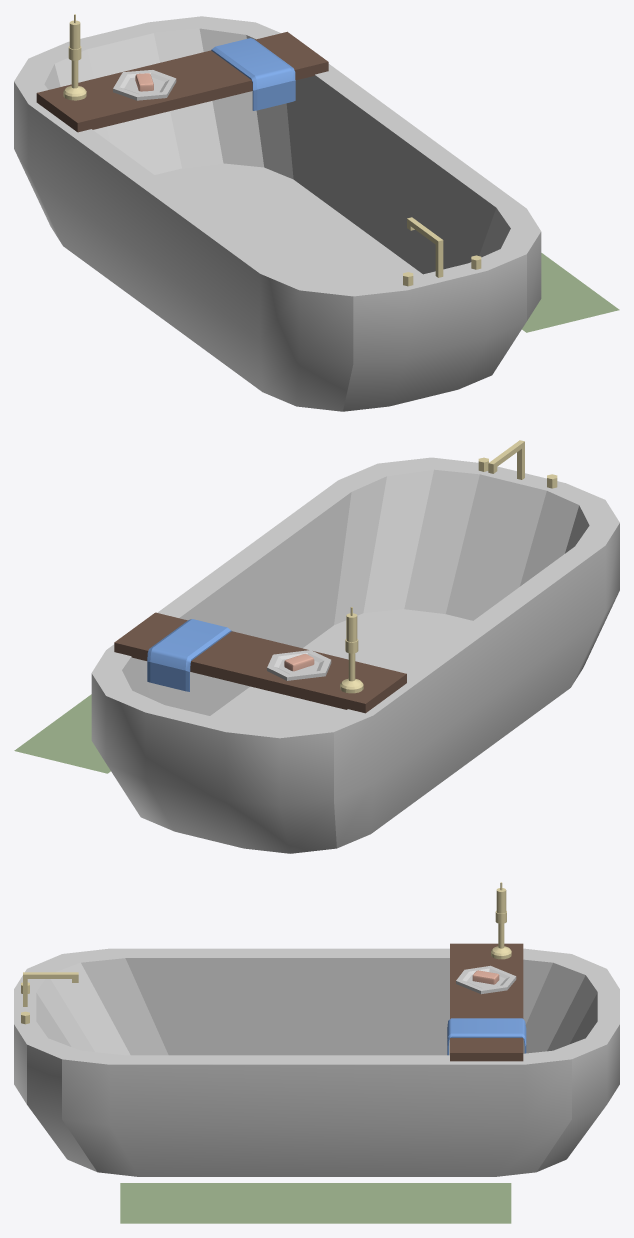
File: geo_bathTub_01.fbx
The picture shows the model from 3 angles, top to bottom: view 1: azimuth 30°, elevation 25°; view 2: azimuth 150°, elevation 25°; view 3: azimuth 270°, elevation 25°; orthographic projection. The views are drawn at different scales.
Parts seen in each view (by area): view 1: geo_bathtub_01, geo_bathtubWood_01, geo_FloorMat_01, geo_bathTowel_01, geo_soapDish_01, geo_candlebath_01, geo_BathTubTap_01; view 2: geo_bathtub_01, geo_bathtubWood_01, geo_FloorMat_01, geo_bathTowel_01, geo_soapDish_01, geo_candlebath_01, geo_BathTubTap_01; view 3: geo_bathtub_01, geo_FloorMat_01, geo_bathtubWood_01, geo_bathTowel_01, geo_soapDish_01, geo_candlebath_01, geo_BathTubTap_01.
Part boxes in pixels (<box>): geo_bathtub_01: <box>14,16,541,411</box>; geo_bathtubWood_01: <box>36,31,328,132</box>; geo_FloorMat_01: <box>522,253,619,332</box>; geo_bathTowel_01: <box>211,38,295,110</box>; geo_soapDish_01: <box>113,70,176,100</box>; geo_candlebath_01: <box>63,14,86,100</box>; geo_BathTubTap_01: <box>407,217,443,277</box>; geo_bathtub_01: <box>91,457,619,853</box>; geo_bathtubWood_01: <box>114,612,406,713</box>; geo_FloorMat_01: <box>14,694,110,773</box>; geo_bathTowel_01: <box>147,619,231,691</box>; geo_soapDish_01: <box>267,650,331,680</box>; geo_candlebath_01: <box>340,607,363,693</box>; geo_BathTubTap_01: <box>488,440,524,479</box>; geo_bathtub_01: <box>14,948,619,1176</box>; geo_FloorMat_01: <box>120,1183,511,1223</box>; geo_bathtubWood_01: <box>450,943,523,1061</box>; geo_bathTowel_01: <box>447,1018,526,1055</box>; geo_soapDish_01: <box>456,965,516,994</box>; geo_candlebath_01: <box>491,882,511,959</box>; geo_BathTubTap_01: <box>23,972,78,1006</box>.
Size of the model in its own units: 85.66 by 50.4 by 138.
